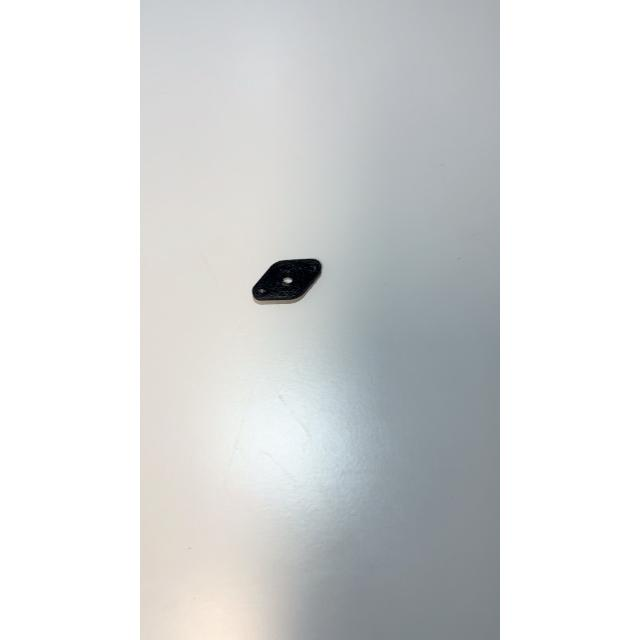Pieza_2: (236, 243, 330, 323)
